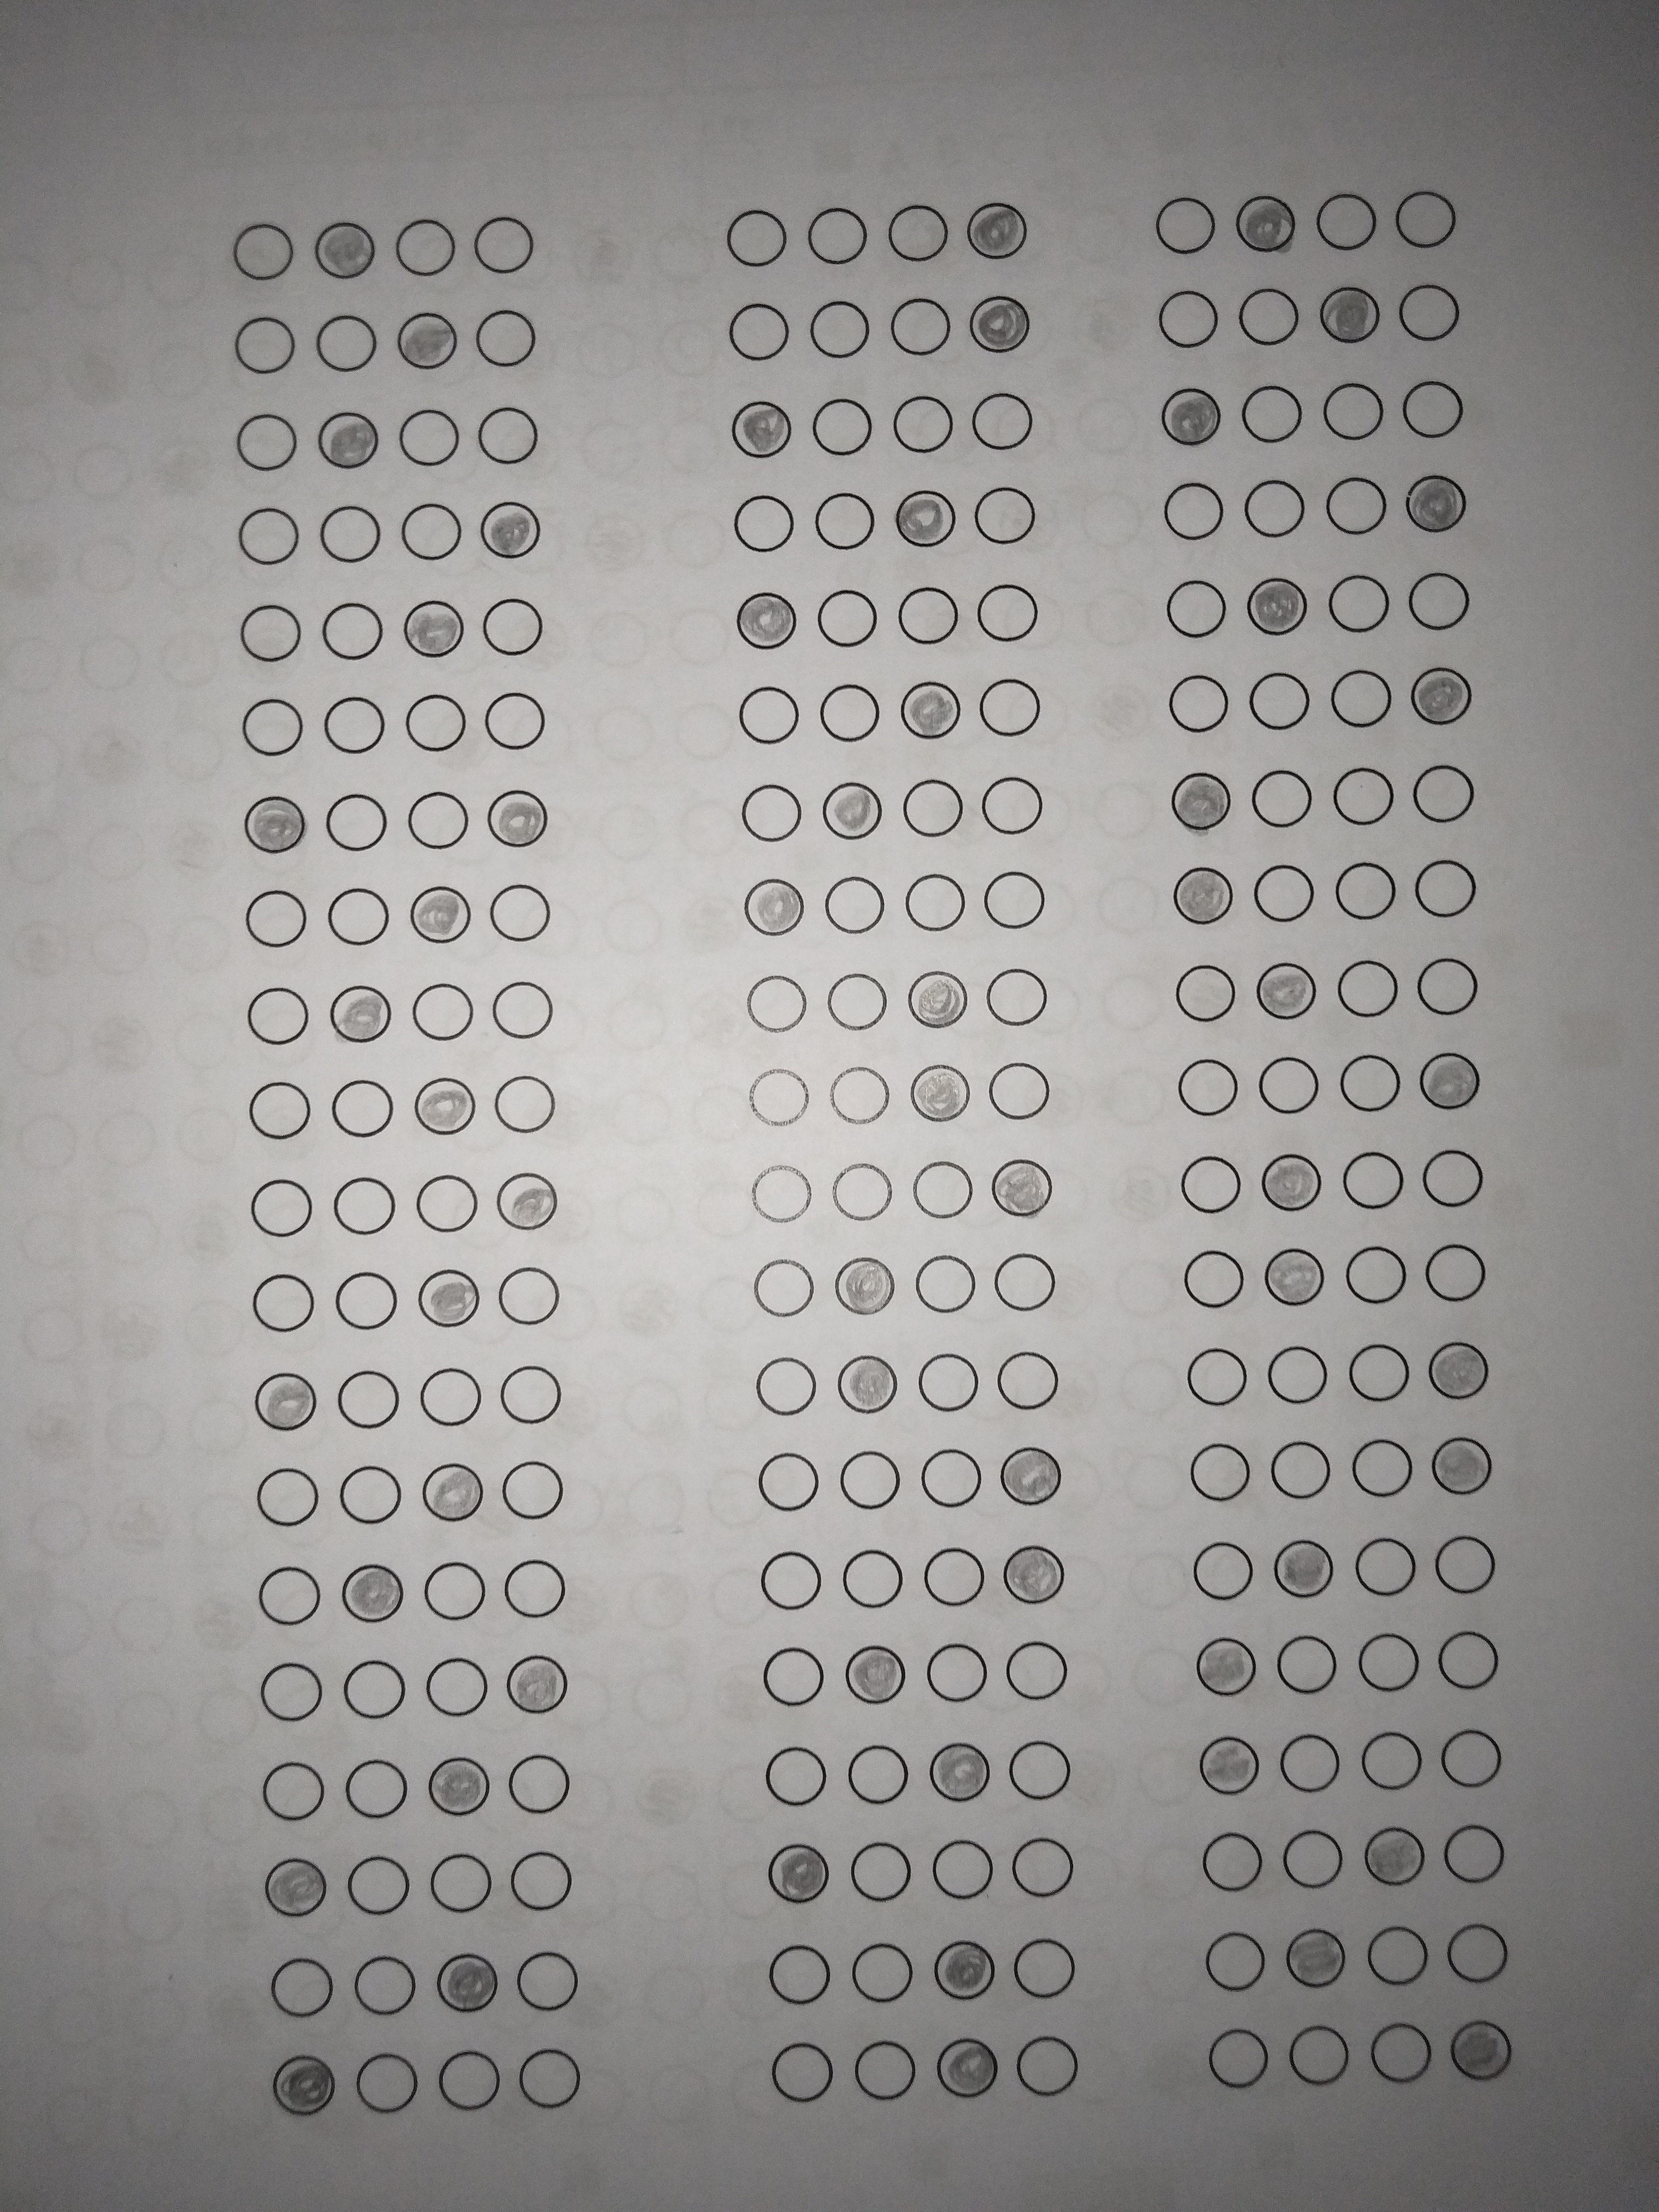not-c: (728, 965, 817, 1043), (1335, 1235, 1420, 1312), (1192, 1824, 1272, 1904), (847, 2033, 925, 2113), (240, 1167, 317, 1249), (244, 1264, 322, 1343), (237, 981, 317, 1057), (838, 1838, 918, 1914), (232, 596, 310, 672), (401, 977, 479, 1054), (755, 1740, 833, 1817), (1009, 1930, 1087, 2006), (1195, 2022, 1274, 2099), (763, 2034, 838, 2114), (223, 500, 307, 571), (1190, 1921, 1267, 1998), (1410, 850, 1486, 927), (1147, 186, 1223, 263), (1392, 185, 1471, 260), (399, 681, 472, 761), (727, 679, 807, 752), (1244, 859, 1324, 932), (1164, 658, 1237, 738), (1159, 577, 1241, 648), (326, 1362, 403, 1437), (983, 1054, 1060, 1129), (1441, 1919, 1516, 1996), (1178, 1341, 1255, 1416), (317, 880, 396, 953), (746, 1350, 824, 1423), (1281, 2019, 1354, 2097), (497, 1552, 577, 1623), (1147, 287, 1230, 355), (253, 1559, 328, 1634), (416, 1555, 491, 1630), (800, 197, 875, 272), (904, 1251, 979, 1325), (924, 1829, 999, 1904), (1251, 1047, 1326, 1122), (220, 212, 296, 286), (242, 1075, 319, 1148), (512, 2040, 589, 2113), (1006, 1829, 1082, 1902), (1429, 1527, 1506, 1601), (1344, 1331, 1417, 1407), (1178, 1242, 1255, 1315), (1171, 1050, 1248, 1123), (1330, 954, 1403, 1031), (1244, 664, 1317, 740), (1230, 378, 1307, 451), (260, 1951, 338, 2022), (974, 674, 1053, 745), (816, 871, 894, 942), (1262, 1336, 1333, 1414), (711, 200, 791, 270), (1248, 763, 1317, 843), (394, 495, 469, 568), (328, 1266, 403, 1339), (418, 1649, 493, 1723), (336, 1648, 410, 1723), (345, 1944, 418, 2019), (1328, 759, 1403, 833), (1398, 369, 1471, 444), (843, 1737, 915, 1813), (1413, 1146, 1493, 1214), (477, 685, 551, 758), (802, 394, 875, 467), (1004, 1737, 1077, 1810), (1269, 1627, 1342, 1700), (1175, 1144, 1248, 1217), (481, 876, 556, 948), (413, 1364, 488, 1435), (338, 1848, 413, 1919), (887, 388, 958, 463), (723, 488, 798, 559), (894, 772, 965, 846), (1279, 1824, 1351, 1898), (474, 305, 544, 381), (746, 1446, 823, 1515), (1155, 475, 1232, 545), (335, 1460, 408, 1531), (512, 1947, 586, 2019), (809, 580, 882, 651), (741, 1062, 814, 1134), (845, 1937, 917, 2010), (1432, 1630, 1504, 1703), (411, 1167, 481, 1242), (814, 676, 884, 751), (744, 1160, 819, 1230), (746, 1252, 821, 1322), (831, 1442, 901, 1517), (1412, 958, 1486, 1028), (251, 1655, 328, 1723), (1272, 1731, 1349, 1799), (967, 779, 1053, 840), (228, 697, 307, 763), (498, 1454, 570, 1526), (1363, 1923, 1434, 1994), (802, 294, 875, 364), (725, 293, 795, 366), (901, 869, 974, 939), (755, 1641, 828, 1710), (1434, 1724, 1507, 1794), (1403, 566, 1476, 636), (1317, 376, 1391, 446), (237, 883, 312, 951), (885, 580, 960, 648), (988, 1251, 1063, 1318), (1443, 1820, 1511, 1895), (387, 212, 458, 282), (476, 401, 547, 470), (319, 597, 389, 669), (328, 1073, 397, 1144), (491, 1069, 561, 1141), (493, 1261, 565, 1331), (342, 1754, 413, 1824), (434, 2043, 504, 2114), (918, 1543, 990, 1613), (1185, 1439, 1256, 1508), (1267, 1439, 1338, 1508), (1410, 761, 1481, 831), (1321, 571, 1392, 641), (1239, 472, 1310, 542), (1319, 470, 1391, 540), (319, 787, 392, 855), (983, 961, 1051, 1035), (1171, 961, 1244, 1029), (735, 780, 810, 846), (917, 1641, 992, 1707), (1361, 2019, 1436, 2085), (823, 1062, 892, 1132), (756, 1547, 826, 1616), (261, 1754, 329, 1825), (911, 1157, 979, 1228), (1323, 665, 1394, 733), (488, 979, 561, 1045), (971, 578, 1044, 644), (1014, 2034, 1087, 2101), (1352, 1630, 1425, 1696), (1392, 280, 1467, 345), (469, 209, 538, 277), (228, 310, 298, 378), (394, 404, 464, 472), (810, 484, 878, 554), (1358, 1728, 1427, 1796), (1337, 1052, 1405, 1122), (1312, 186, 1382, 254), (228, 408, 300, 474), (479, 594, 551, 660), (314, 688, 385, 754), (251, 1463, 322, 1529), (836, 1545, 908, 1611), (333, 1167, 397, 1240), (990, 1348, 1063, 1413), (763, 1944, 836, 2008), (828, 1160, 896, 1228), (915, 1350, 983, 1418), (917, 1444, 985, 1512), (1335, 859, 1403, 927), (406, 786, 476, 852), (505, 1848, 575, 1914), (349, 2050, 418, 2116), (971, 482, 1040, 549), (495, 1362, 566, 1426), (1349, 1531, 1420, 1595), (505, 1749, 572, 1817), (885, 294, 953, 361), (1004, 1635, 1070, 1703), (1337, 1146, 1405, 1212), (314, 308, 378, 378), (885, 197, 951, 263), (826, 970, 892, 1036), (1188, 1536, 1255, 1602), (317, 502, 385, 566), (979, 869, 1049, 932), (1347, 1439, 1417, 1501), (425, 1850, 493, 1912), (972, 383, 1035, 451), (1236, 291, 1303, 348), (1427, 1240, 1488, 1303)
taken-c: (1445, 2015, 1516, 2085), (1166, 768, 1237, 834), (251, 1366, 319, 1433), (843, 1639, 910, 1709), (1258, 1148, 1328, 1214), (310, 216, 376, 284), (493, 1167, 561, 1233), (340, 1557, 406, 1625), (429, 1750, 495, 1818), (931, 1933, 997, 2001), (927, 1737, 993, 1804), (997, 1442, 1065, 1508), (1410, 660, 1476, 728), (1195, 1733, 1263, 1799), (1283, 1923, 1349, 1991), (1002, 1538, 1066, 1608), (831, 1249, 896, 1318), (328, 979, 394, 1045), (505, 1651, 572, 1717), (270, 2052, 336, 2118), (936, 2034, 1002, 2101), (416, 1264, 481, 1332), (727, 395, 795, 460), (1262, 1244, 1330, 1308), (1424, 1338, 1493, 1400), (1364, 1818, 1427, 1888), (484, 787, 551, 852), (436, 1949, 500, 2015), (838, 1348, 903, 1414), (990, 1153, 1056, 1217), (734, 589, 800, 653), (1236, 190, 1300, 256), (1316, 280, 1382, 345), (1405, 469, 1469, 535), (1171, 862, 1236, 928), (1253, 958, 1317, 1024), (1269, 1534, 1335, 1599), (420, 1458, 488, 1521), (263, 1855, 331, 1918), (816, 780, 884, 843), (396, 308, 460, 373), (403, 596, 467, 660), (767, 1841, 831, 1905), (910, 1059, 974, 1123), (894, 486, 958, 550), (1159, 383, 1223, 448), (1431, 1433, 1495, 1498), (315, 409, 382, 472), (242, 794, 308, 857), (411, 880, 474, 946), (741, 874, 807, 937), (899, 676, 962, 742), (967, 291, 1033, 354), (477, 500, 542, 563), (413, 1075, 477, 1137), (1248, 575, 1312, 637), (1192, 1635, 1258, 1696), (965, 199, 1030, 260), (1417, 1050, 1481, 1111), (906, 970, 971, 1028)
